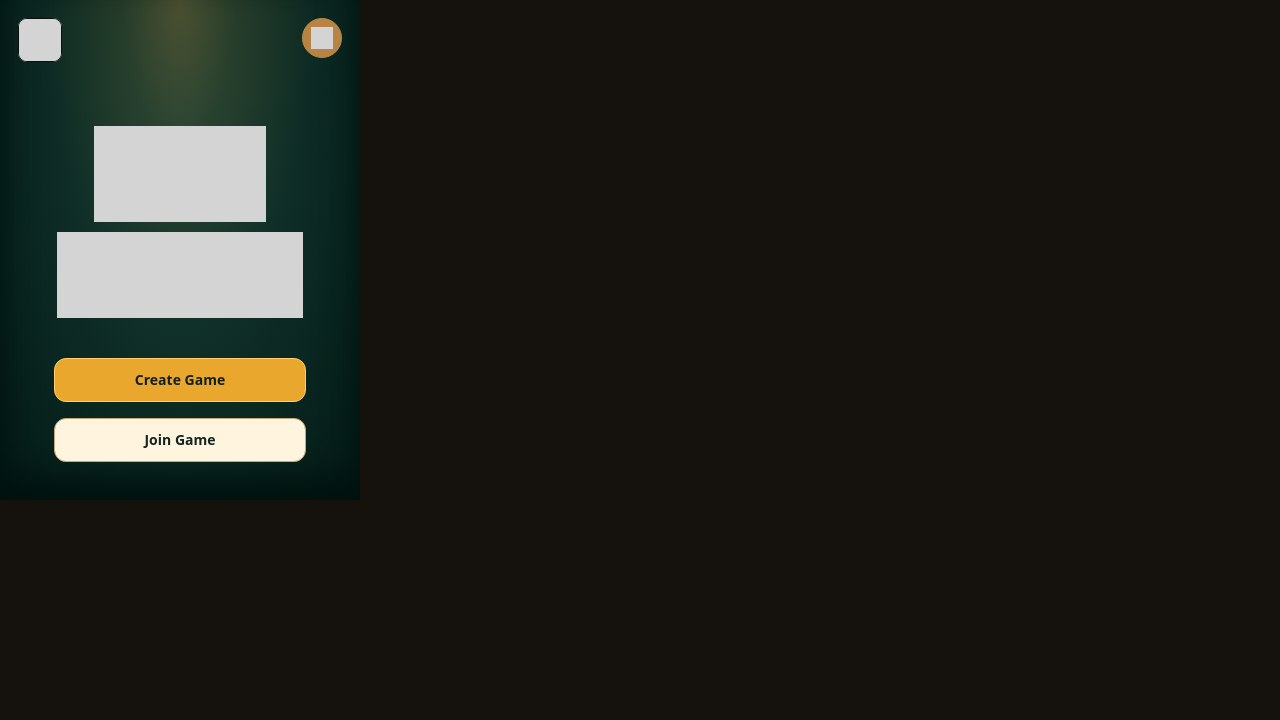
Scenario: offers dismissal when server readiness is unavailable
The width and height of the screenshot is (1280, 720).
What coordinates should you click on to do the following:
click the button "Create Game"
I would click on:
 (180, 380)
Its box is [54,358,306,402].
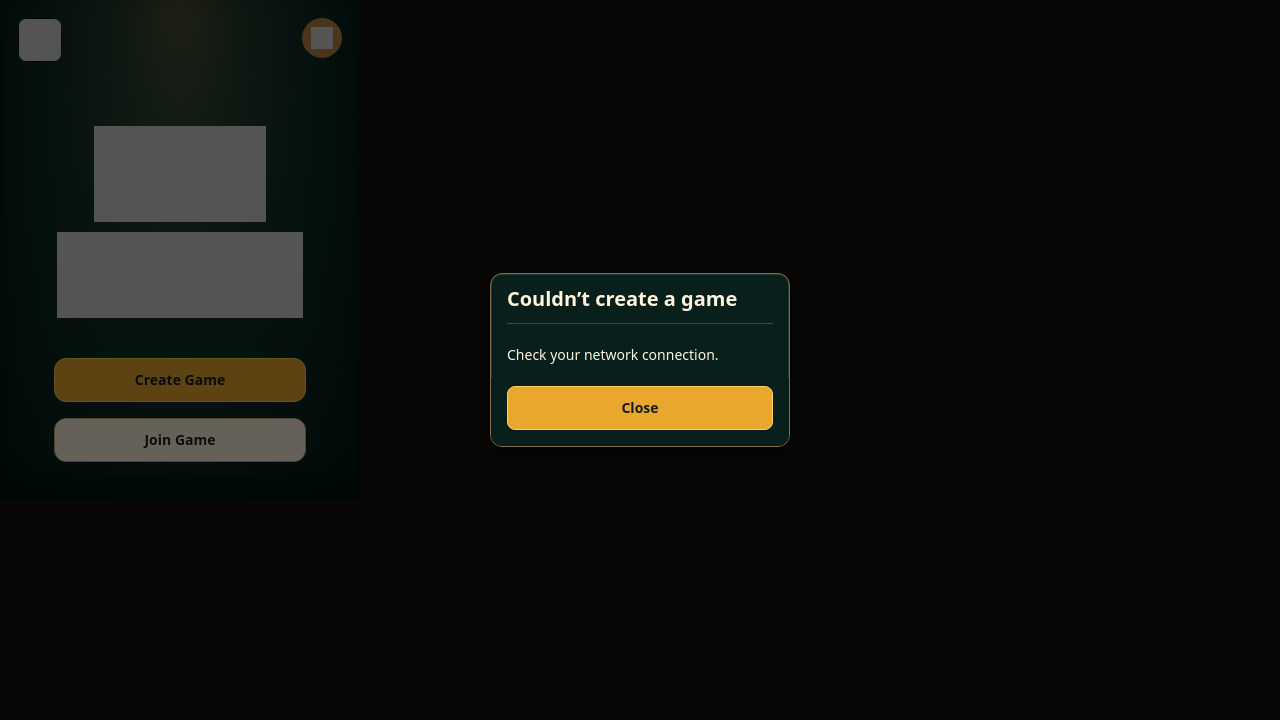
Expected: the dialog is shown
Expected: the button "Close" is shown, [507,386,773,430]
